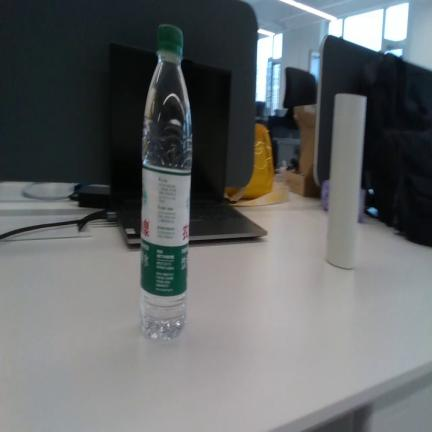bottle: (140, 25, 192, 340)
